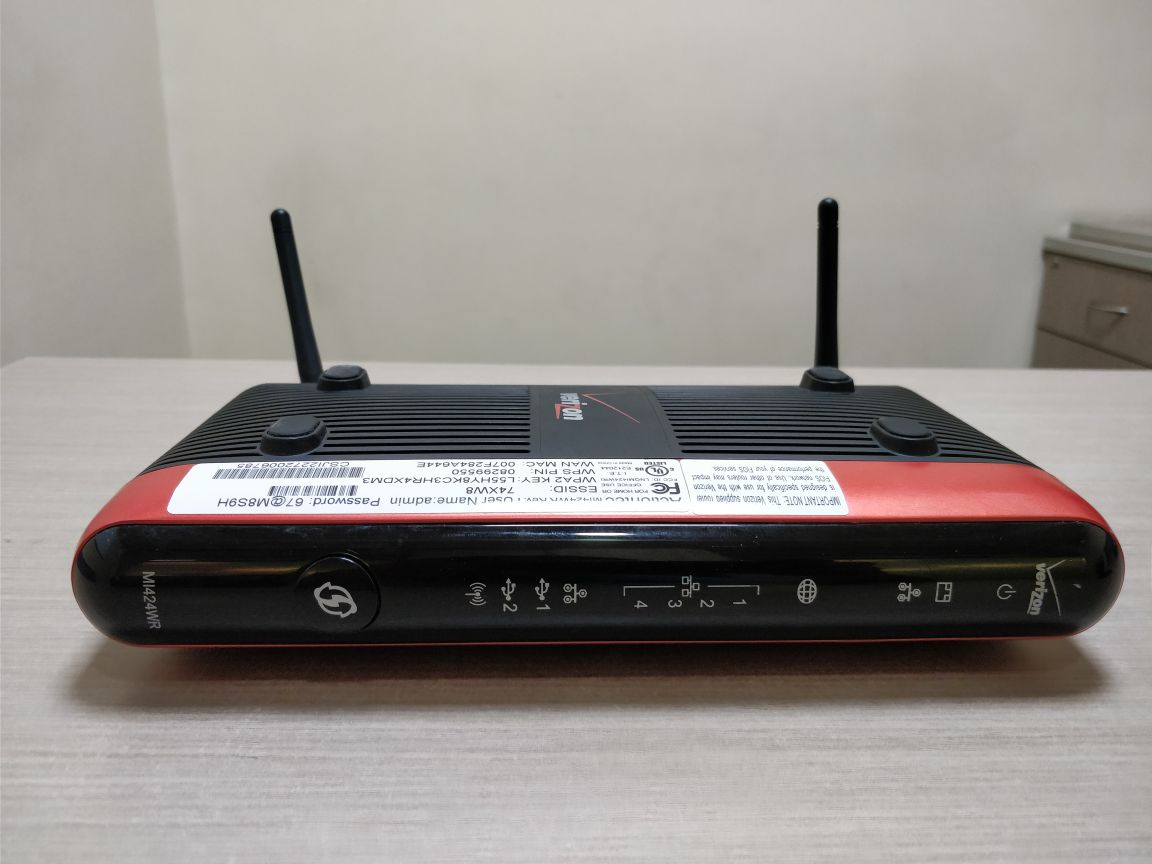Verizon Router: (41, 177, 1148, 738)
